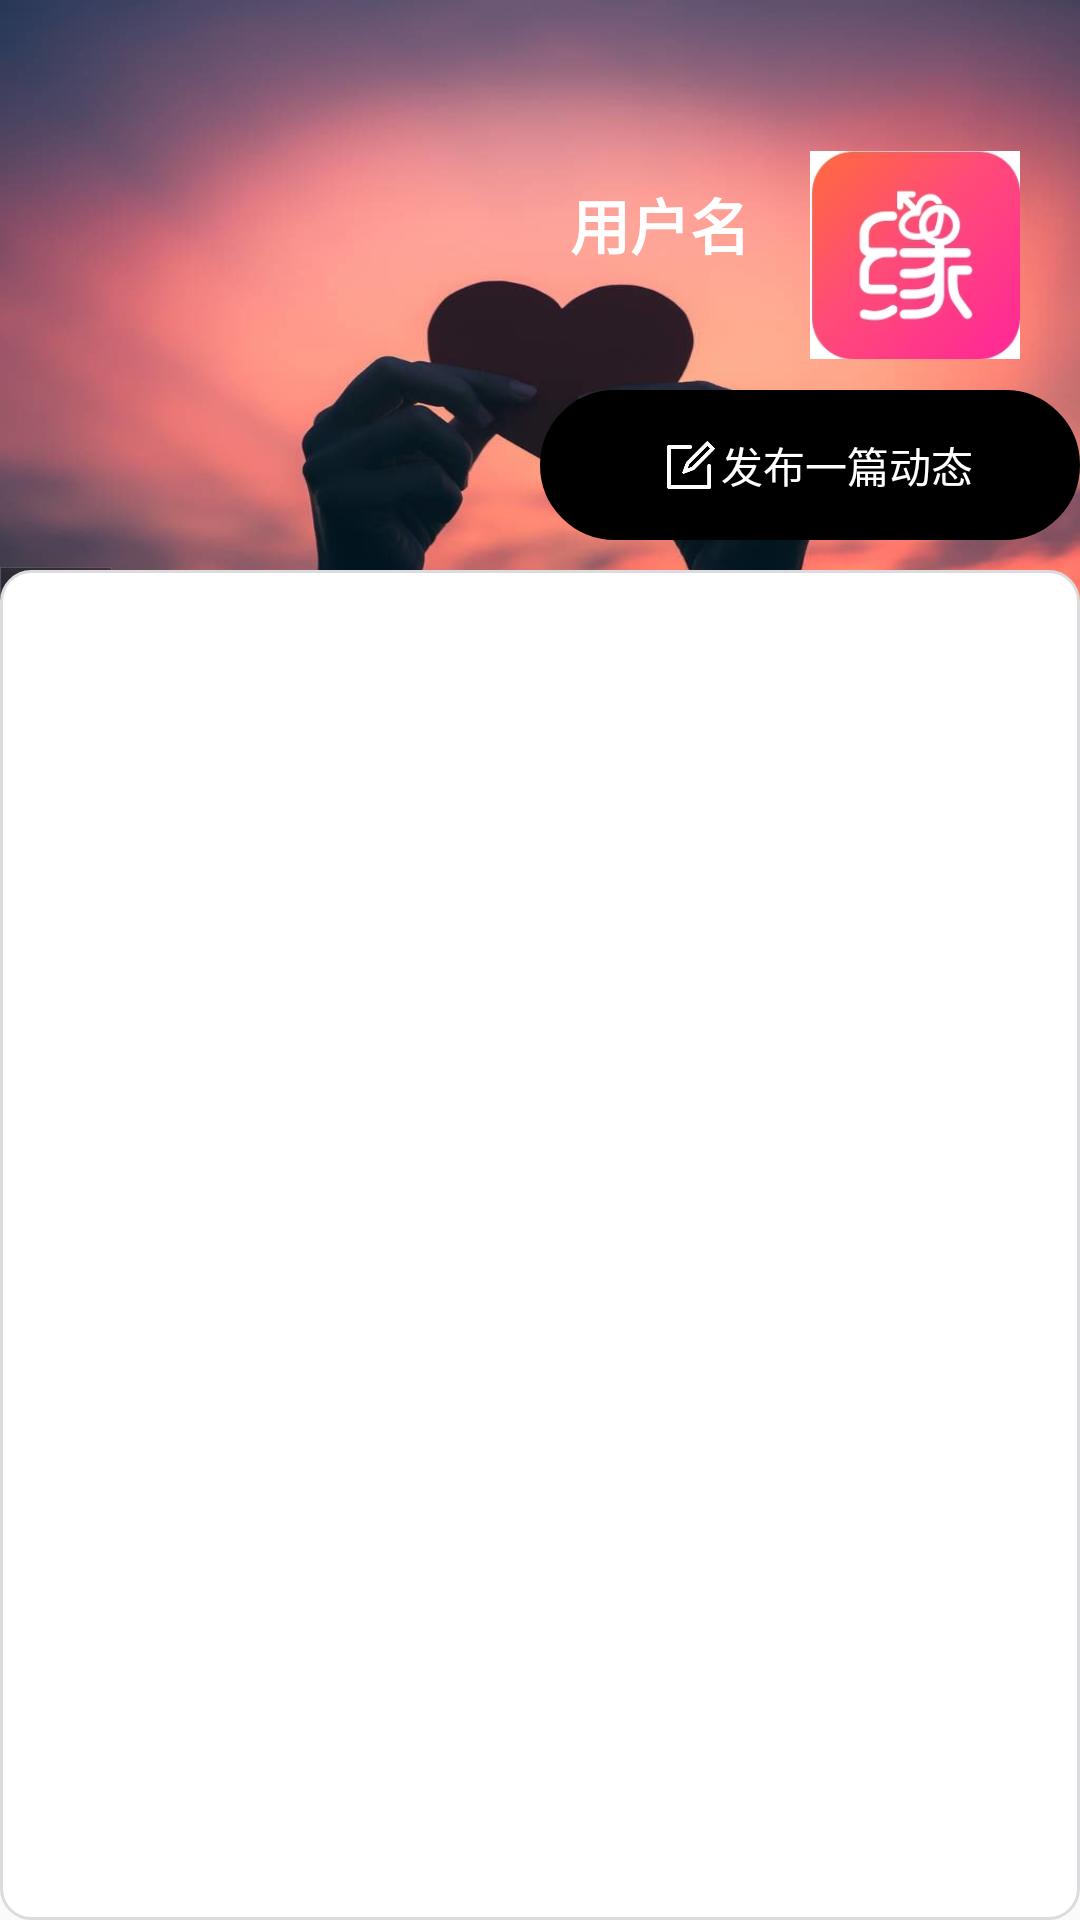

Point at icon controls on the screen. Image size 1080x1920, points as point (x, y).
edit paper: point (691, 465)
